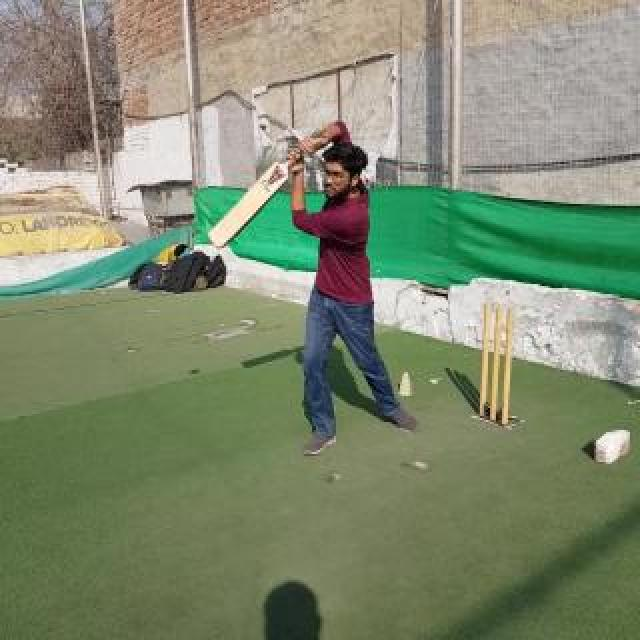bat: (208, 124, 328, 248)
